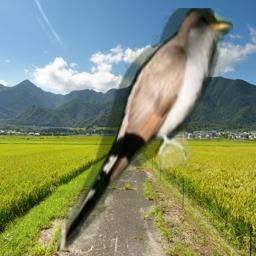Cuckoo: (57, 8, 233, 251)
